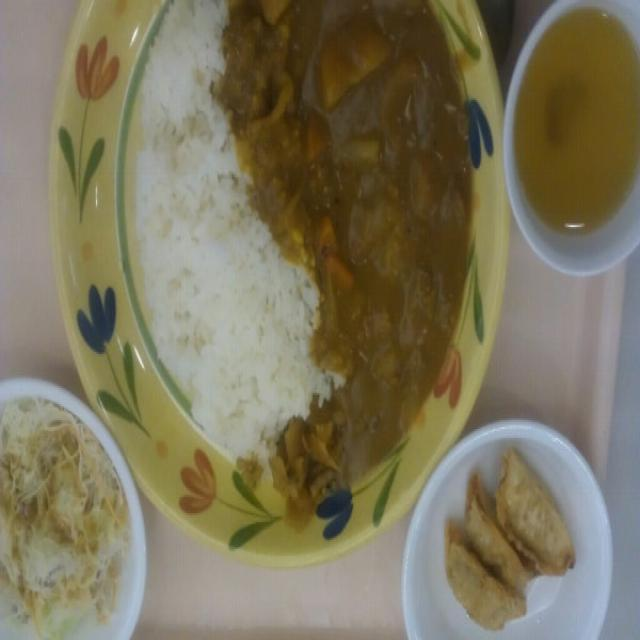Beef Curry: (256, 0, 467, 499)
